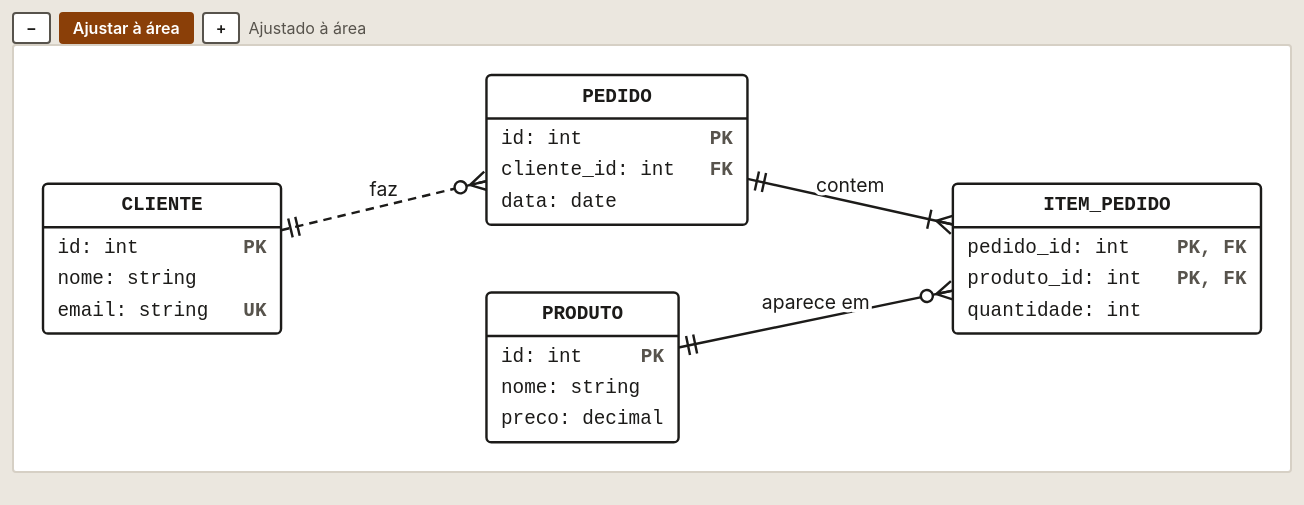
Test: DiagramPreview › começa ajustado à área e aumenta ou diminui o zoom pelos botões, anunciando o nível
Note: No jsdom a área não tem tamanho, então o "ajustar" conta como 100%.
Click the button named "Aumentar zoom".
click(221, 28)  # box [202, 12, 240, 44]
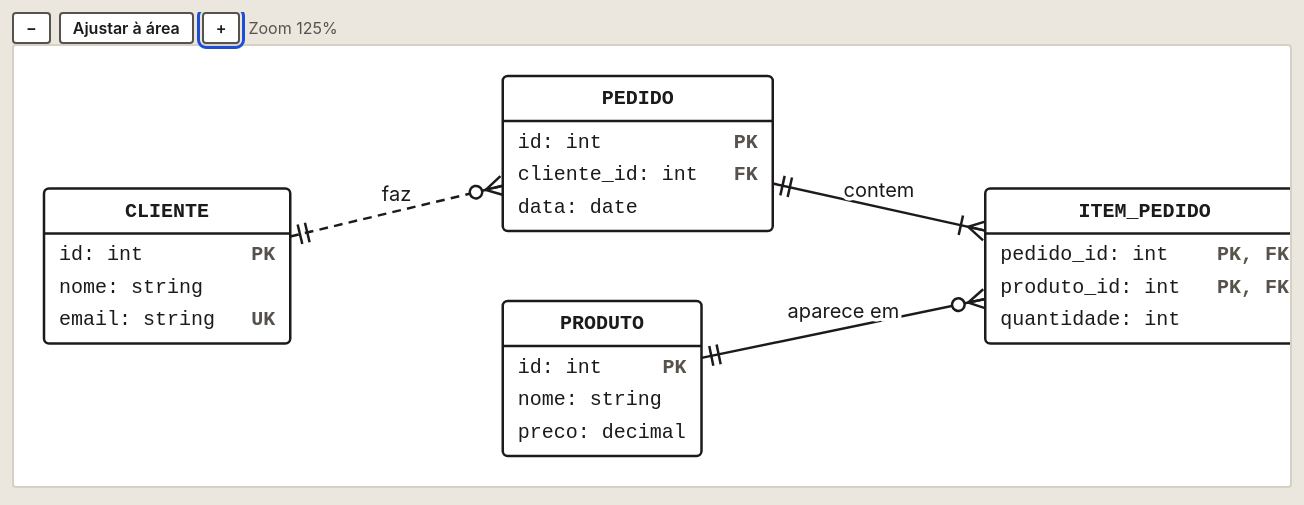
Now the text "Zoom 125%" is shown, box [248, 16, 338, 40]
Click the button named "Diminuir zoom".
click(31, 28)  # box [12, 12, 51, 44]
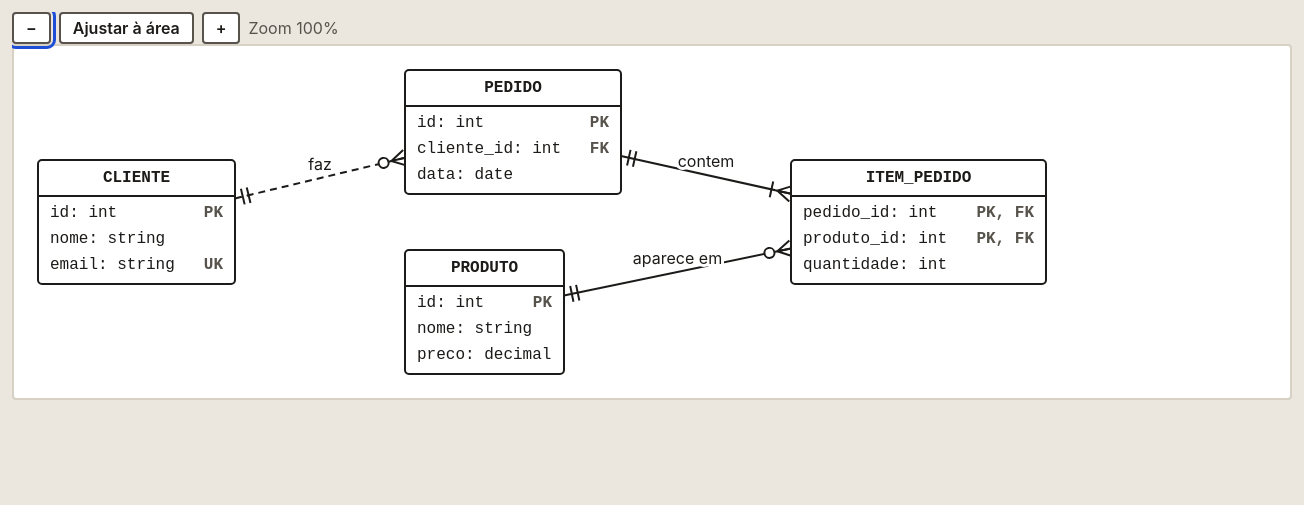
Click the button "Ajustar à área".
click(126, 28)  # box [59, 12, 194, 44]
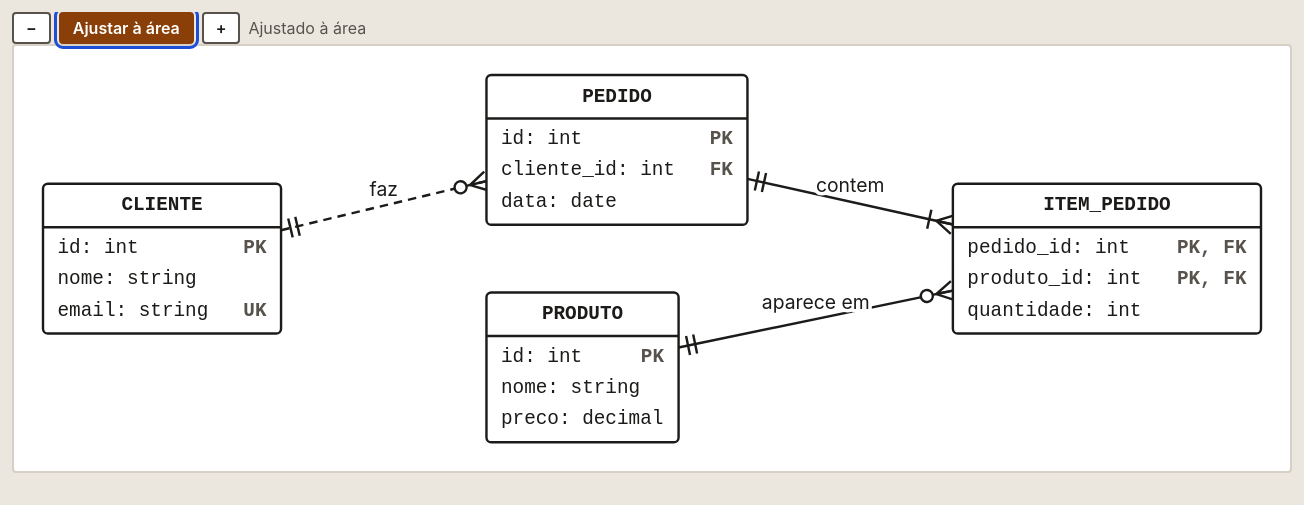
Now the picture has attribute width="100%"
